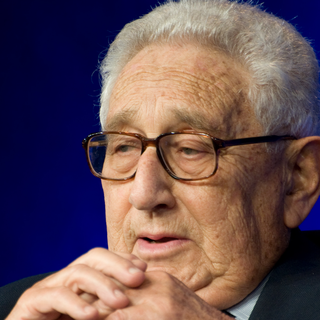eye: (171, 141, 213, 161), (103, 141, 145, 160)
